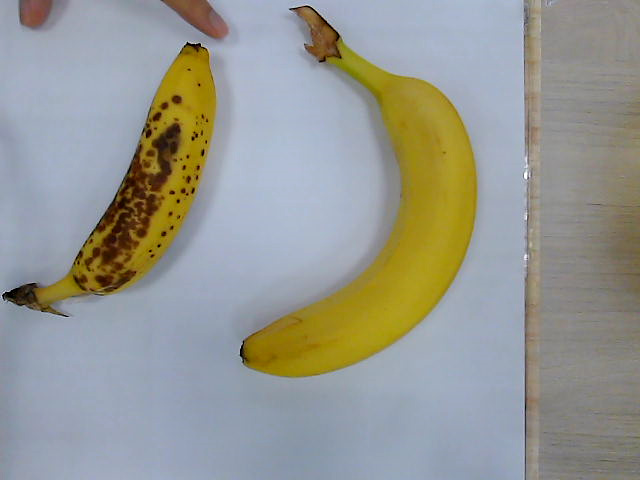fresh_banana: (242, 6, 476, 376)
rotten_banana: (8, 42, 215, 319)
